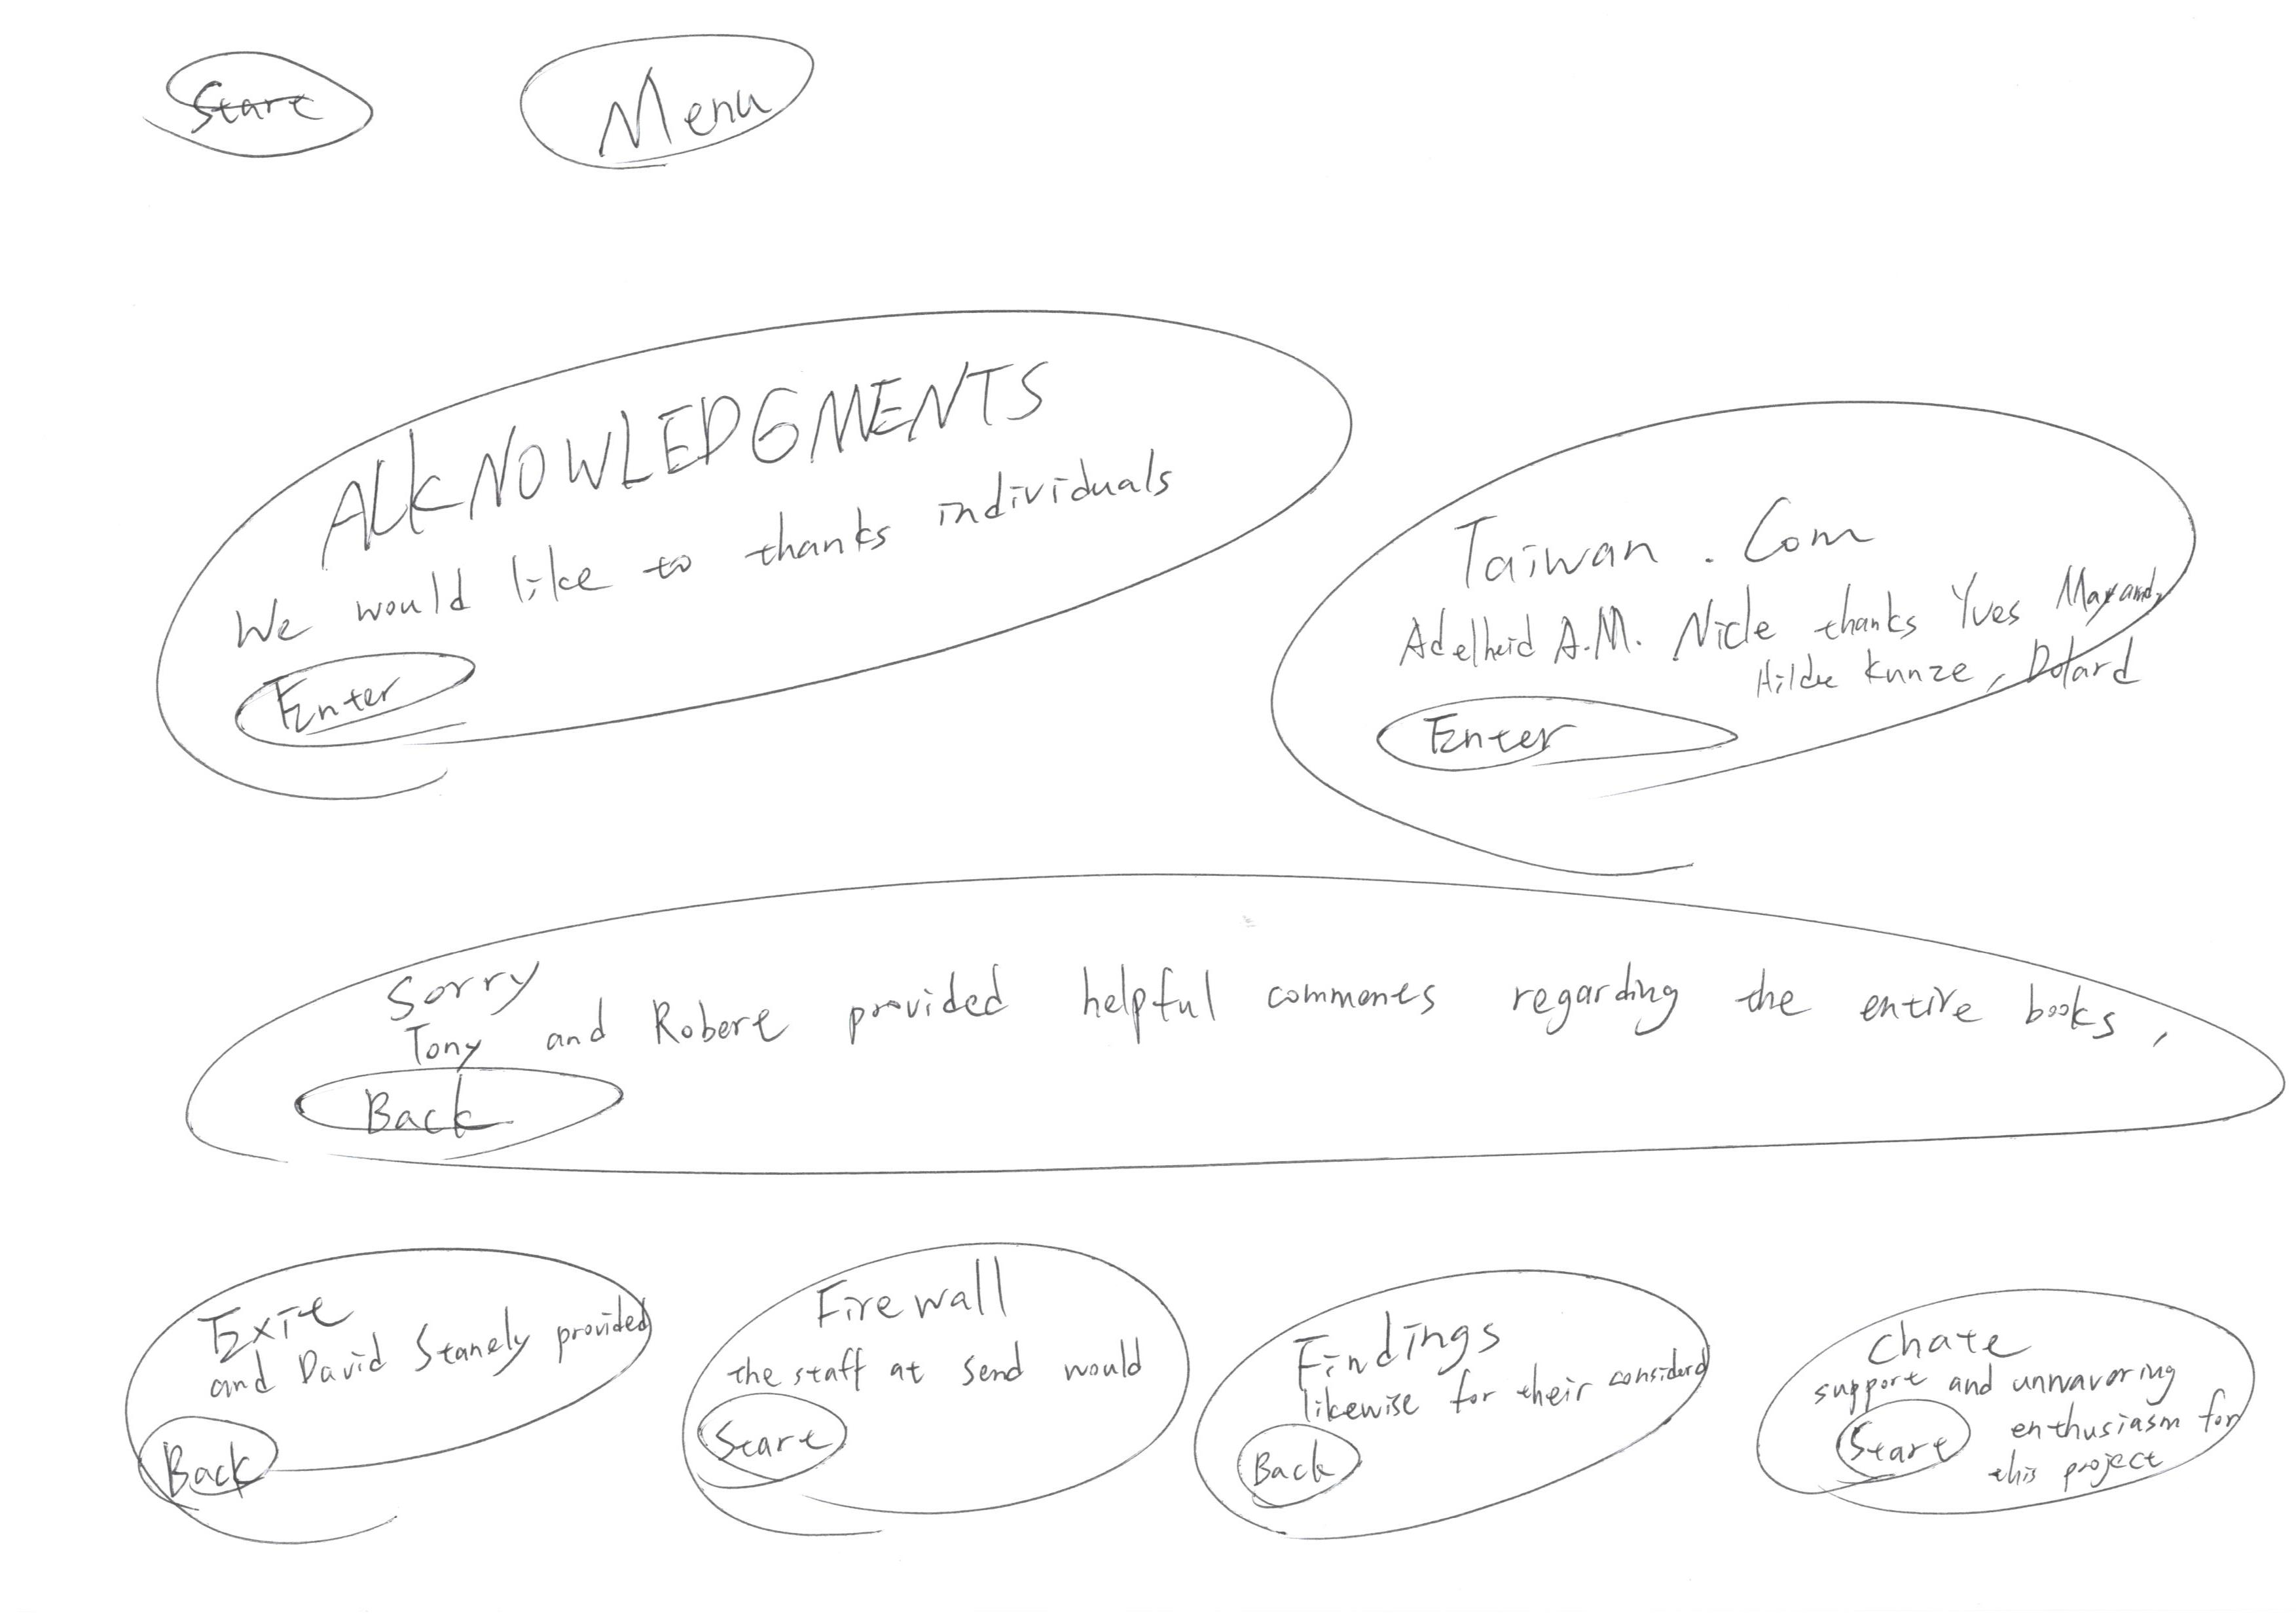back: (285, 1053, 666, 1178), (123, 1411, 292, 1534), (1225, 1418, 1401, 1526)
btn-active: (1370, 659, 1740, 793), (229, 642, 513, 777)
double: (134, 271, 1389, 824), (1250, 325, 2296, 916)
menu: (505, 14, 851, 192)
quadruple: (42, 1213, 680, 1578), (1737, 1222, 2296, 1603), (1190, 1218, 1749, 1598), (672, 1222, 1201, 1591)
row: (93, 267, 2296, 842), (113, 835, 2296, 1230), (95, 1199, 2278, 1592), (72, 4, 2296, 278)
single: (130, 858, 2296, 1222)
small-title: (301, 341, 1072, 562), (1435, 497, 1911, 582), (1273, 1288, 1524, 1387), (789, 1243, 1018, 1332), (376, 940, 556, 1026), (192, 1280, 352, 1350), (1867, 1315, 2025, 1367)
start: (127, 35, 389, 195), (686, 1388, 883, 1506), (1798, 1378, 1980, 1478)
text: (199, 450, 1202, 650), (427, 982, 2120, 1049), (1392, 576, 2182, 677), (1749, 585, 2175, 692), (202, 1304, 635, 1381), (1289, 1355, 1707, 1420), (740, 1336, 1162, 1399), (2016, 1366, 2238, 1480), (1825, 1346, 2213, 1411)
